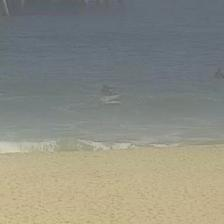surfer: (211, 68, 223, 81), (99, 83, 112, 94)
